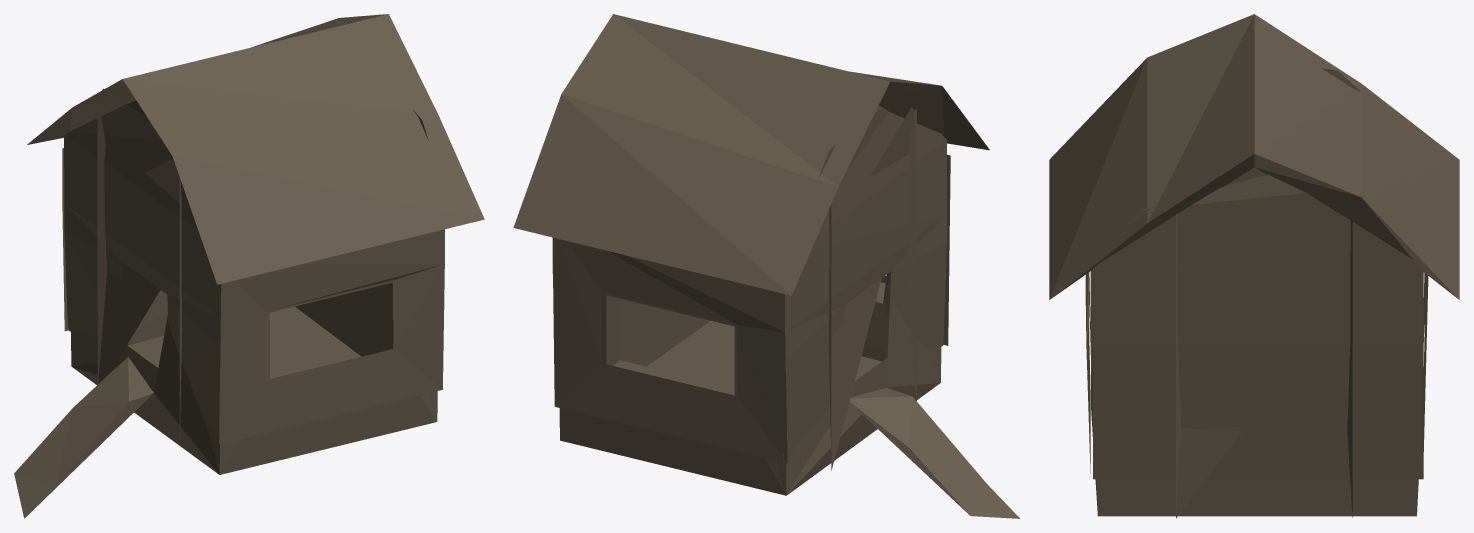
File: chicken-coop.lod2.glb
3 views of the same model, side by side, from view 1: azimuth 30°, elevation 25°; view 2: azimuth 150°, elevation 25°; view 3: azimuth 270°, elevation 25° (orthographic). The views are drawn at different scales.
Parts seen in each view (by area): view 1: Object_3; view 2: Object_3; view 3: Object_3.
Boxes of the visible parts, x1,y1,x2,y2 form: Object_3: [14, 14, 484, 518]; Object_3: [513, 14, 1020, 518]; Object_3: [1049, 14, 1459, 518].
Size of the model in its own units: 3.5 by 3.56 by 3.05.
